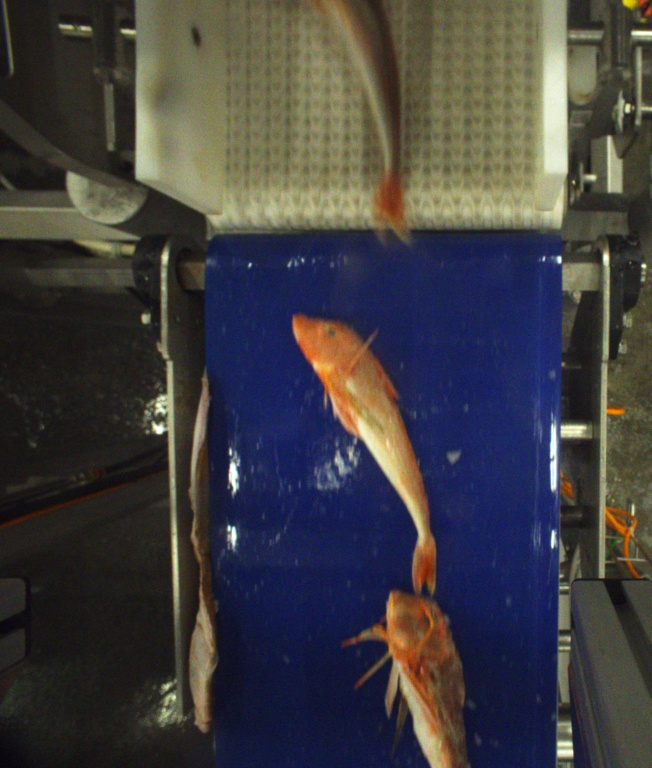GUU: (329, 0, 415, 245)
